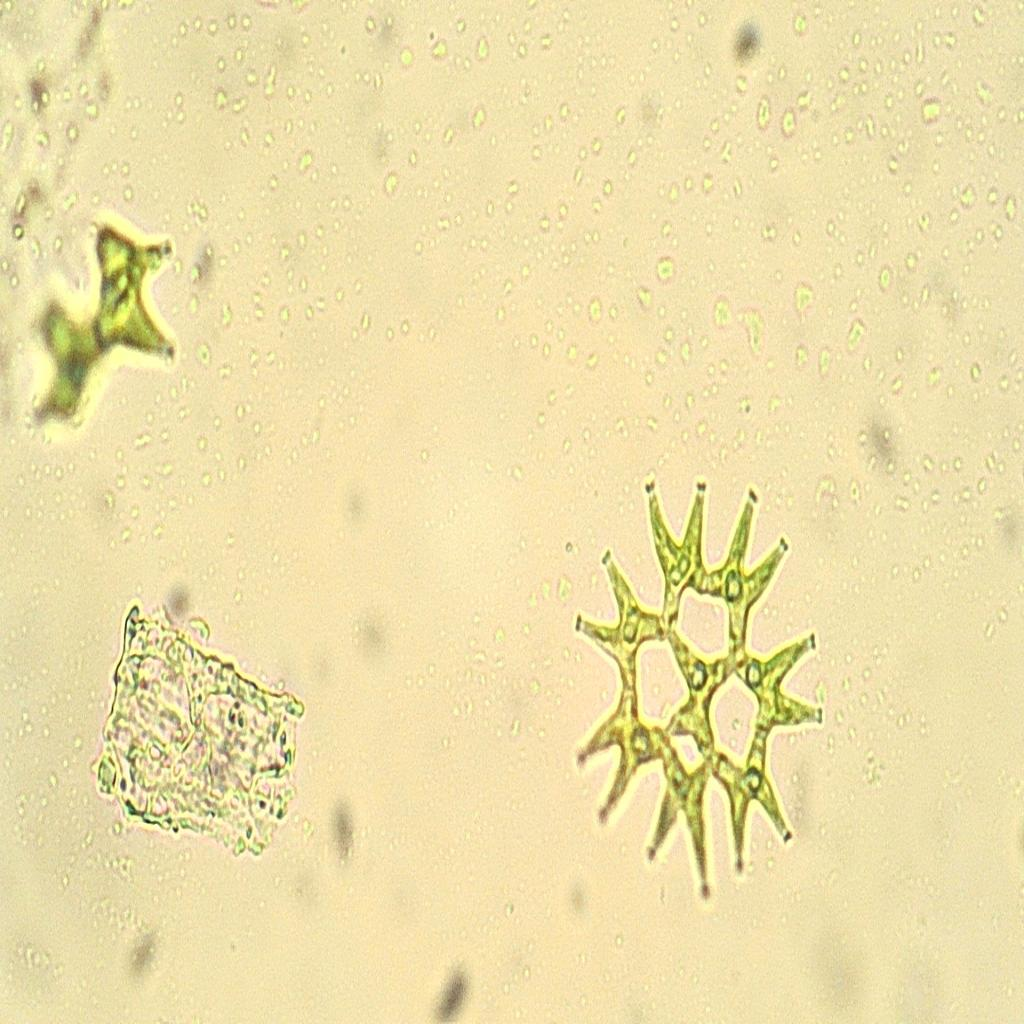Pediastrum_1T: (547, 438, 842, 925)
